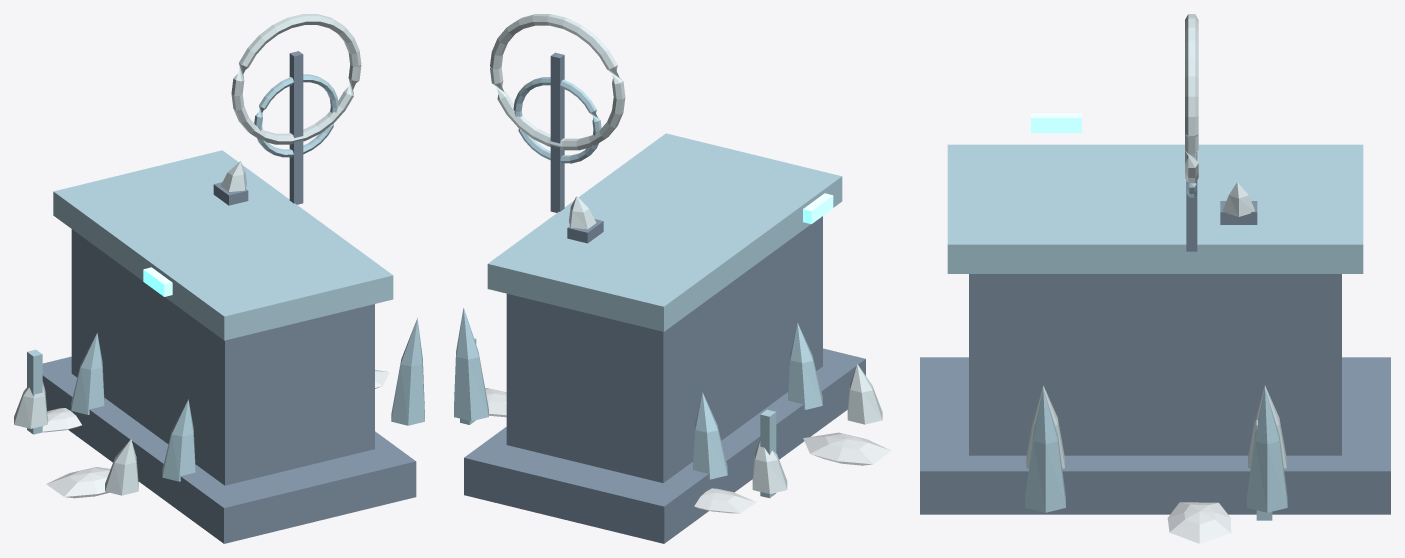
Rendered from polar-geolab.glb.
3 renders of one model, left to right at view 1: azimuth 30°, elevation 25°; view 2: azimuth 150°, elevation 25°; view 3: azimuth 270°, elevation 25°, orthographic. The views are drawn at different scales.
Parts seen in each view (by area): view 1: Polar geology outpost cabin; view 2: Polar geology outpost cabin; view 3: Polar geology outpost cabin.
Part boxes in pixels (x1,y1,x2,y2): Polar geology outpost cabin: (14, 14, 424, 543); Polar geology outpost cabin: (453, 14, 890, 543); Polar geology outpost cabin: (920, 14, 1390, 543).
Bounding box in the file's own units: 5.35 × 5.48 × 4.8.
